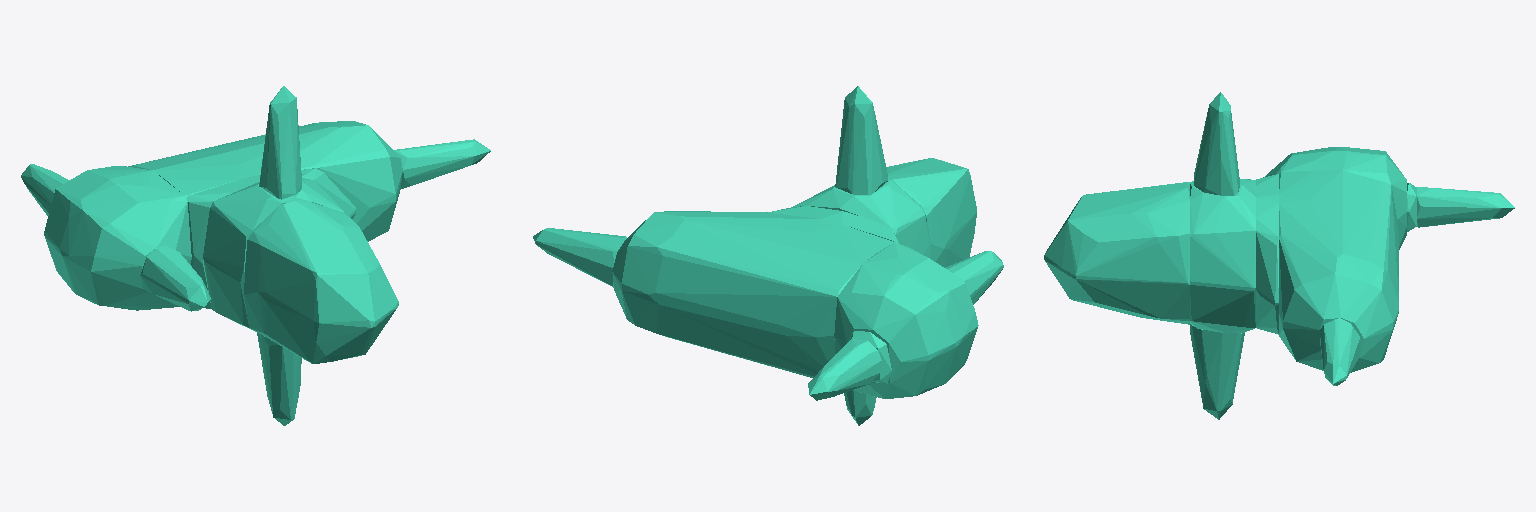
URDF robot description (blob252):
<robot name="blob252">
  <link name="random_obj_252">
    <contact>
      <lateral_friction value="1.0"/>
      <rolling_friction value="0.0"/>
      <inertia_scaling value="3.0"/>
      <contact_cfm value="0.0"/>
      <contact_erp value="1.0"/>
    </contact>
    <inertial>
      <origin rpy="0 0 0" xyz="0 0 0"/>
      <mass value="0.1"/>
      <inertia ixx="1" ixy="0" ixz="0" iyy="1" iyz="0" izz="0"/>
    </inertial>
    <visual>
      <origin rpy="0 0 0" xyz="0 0 0"/>
      <geometry>
        <mesh filename="252.obj" scale="0.015 0.015 0.015"/>
      </geometry>
      <material name="blockmat">
        <color rgba="0.34 0.90 0.77 1"/>
      </material>
    </visual>
    <collision>
      <origin rpy="0 0 0" xyz="0 0 0"/>
      <geometry>
        <mesh filename="252.obj" scale="0.015 0.015 0.015"/>
      </geometry>
    </collision>
  </link>
</robot>

--- Facts derived from the render (not from the file) ---
3 views of the same robot in one strip: view 1: azimuth 30°, elevation 25°; view 2: azimuth 150°, elevation 25°; view 3: azimuth 270°, elevation 25° (orthographic).
Robot: blob252 — 1 links, 0 joints (none); root link random_obj_252; default pose: all joints at 0.
Links seen in each view (by area): view 1: random_obj_252; view 2: random_obj_252; view 3: random_obj_252.
Link boxes in pixels (x1=…): random_obj_252: x1=21, y1=86, x2=490, y2=425; random_obj_252: x1=533, y1=86, x2=1003, y2=425; random_obj_252: x1=1044, y1=92, x2=1514, y2=419.
Bounding box of the posed robot: 0.1201 × 0.1192 × 0.0917 m (x, y, z).
1 mesh visuals loaded from 1 distinct referenced files (1 OBJ).